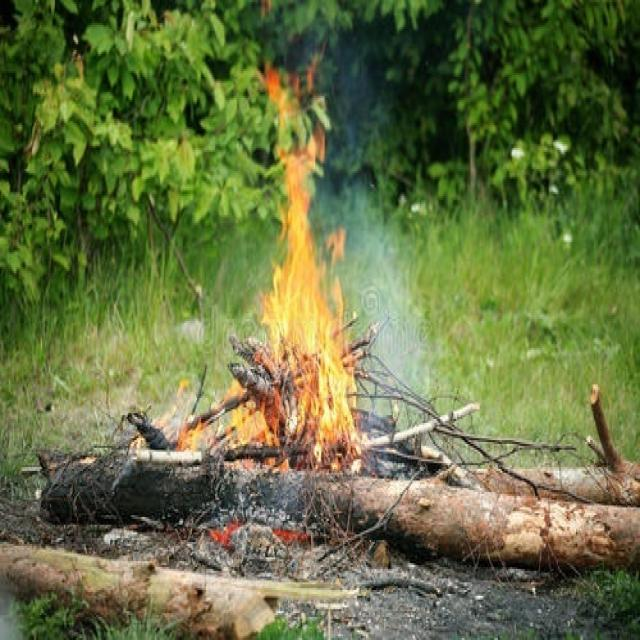Fire: (128, 61, 365, 473), (207, 521, 242, 548), (272, 526, 308, 544)
Smoke: (349, 176, 436, 478)
